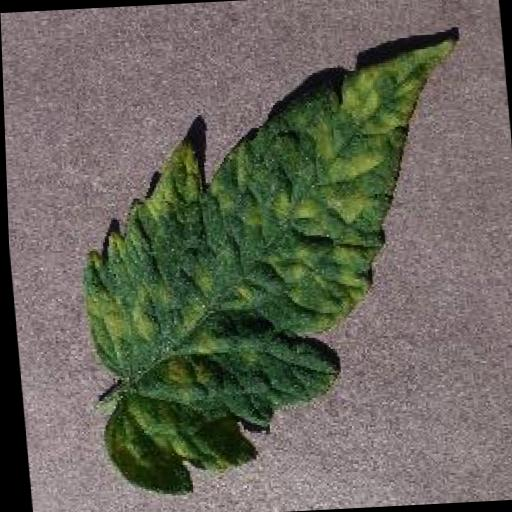Leaf Mold: (58, 38, 491, 496)
